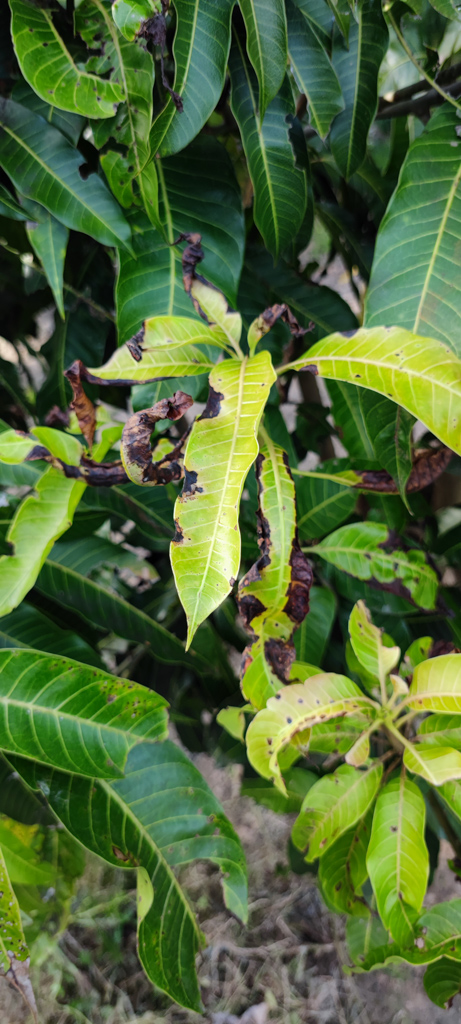Alternaria brassicicola: (241, 673, 354, 798), (48, 655, 161, 734)
